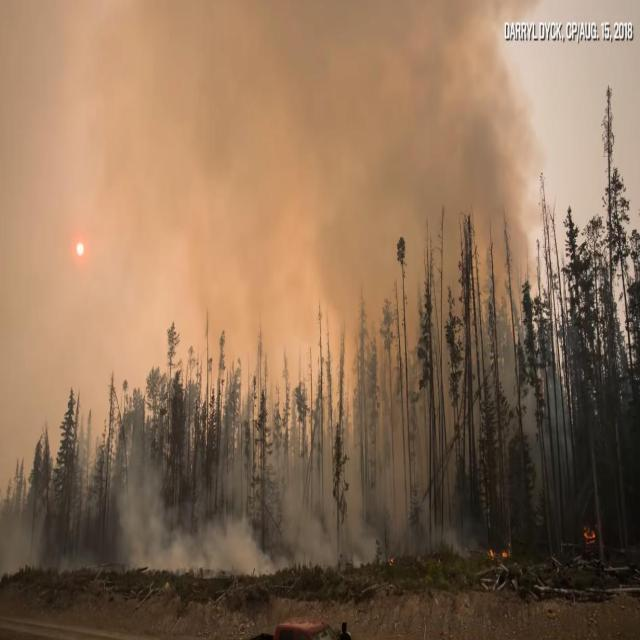Fire: (582, 524, 598, 544), (486, 547, 494, 560)
Smoke: (2, 1, 567, 551)
